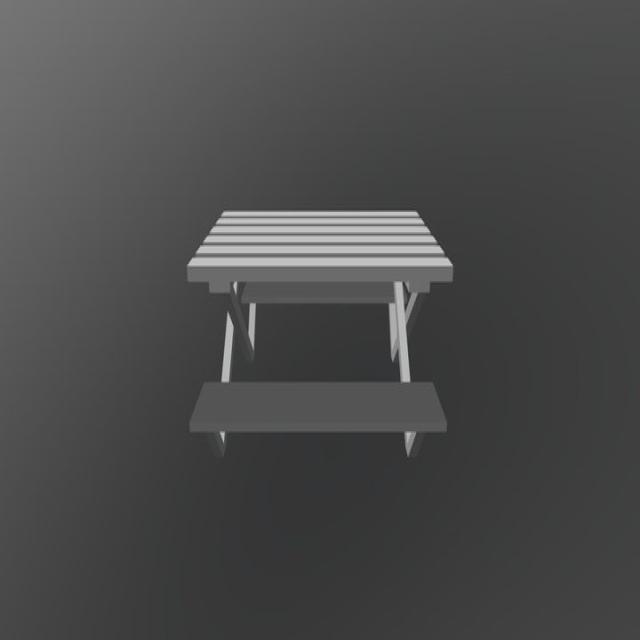table: (187, 208, 453, 475)
